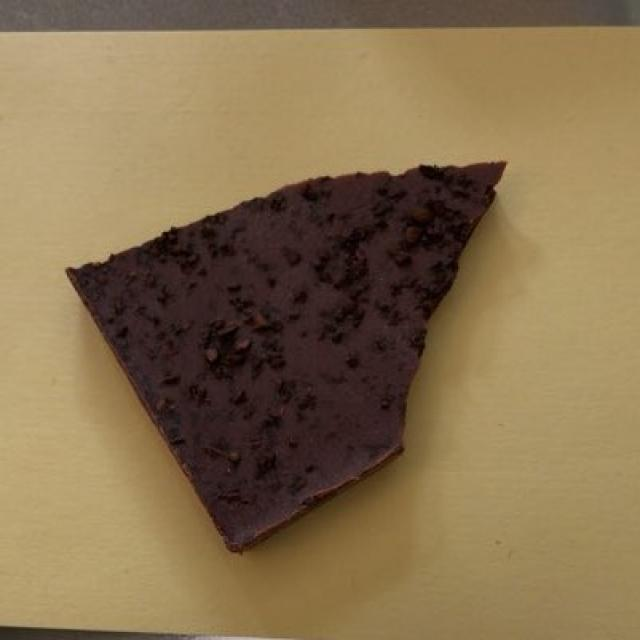chocolate: (70, 162, 511, 553)
